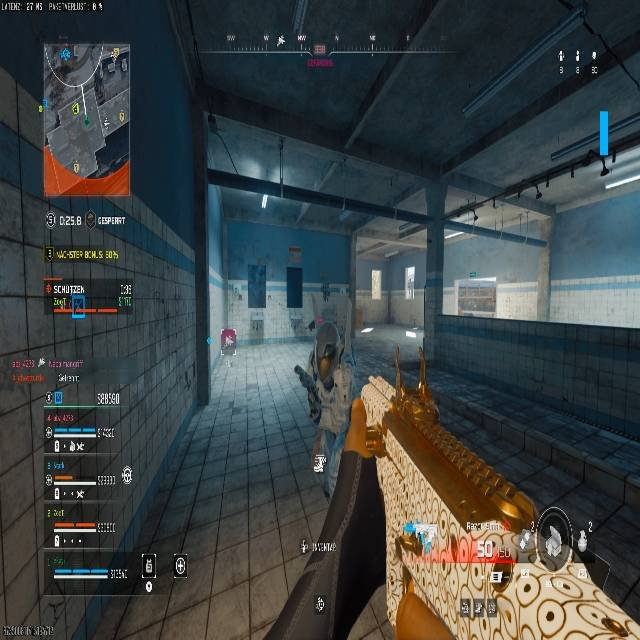player: (311, 307, 338, 370)
